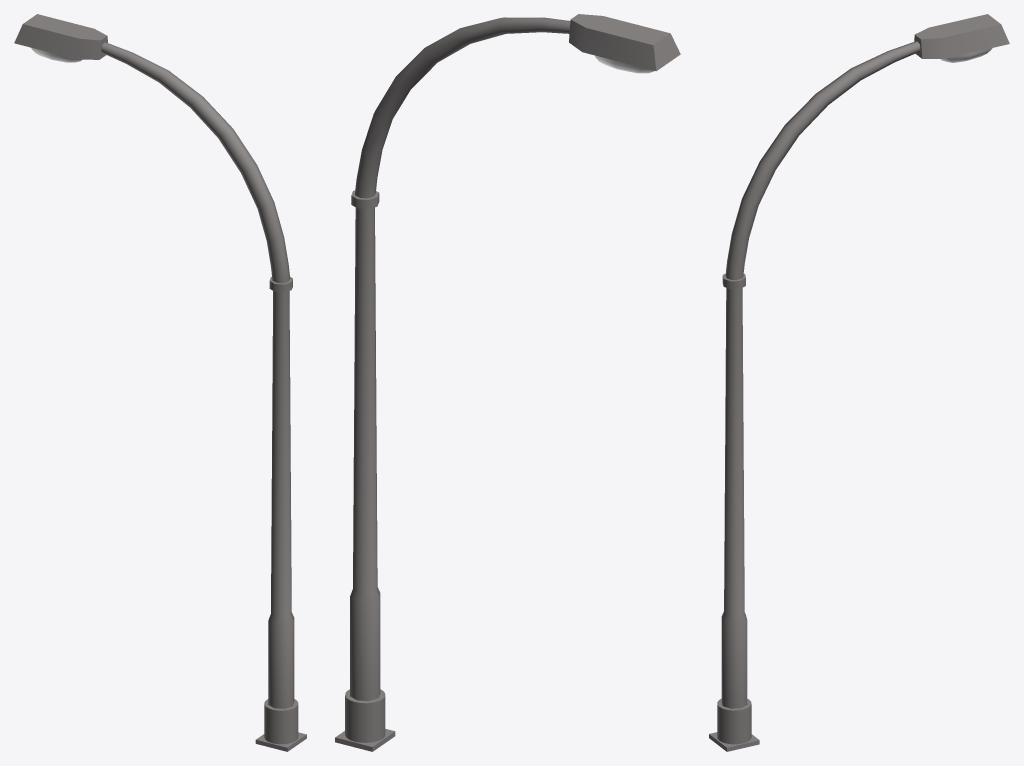
File: streetlights.001_lev1.glb
3 renders of one model, left to right at view 1: azimuth 30°, elevation 25°; view 2: azimuth 210°, elevation 25°; view 3: azimuth 270°, elevation 25°, orthographic. The views are drawn at different scales.
Parts seen in each view (by area): view 1: streetlights.001_lev1; view 2: streetlights.001_lev1; view 3: streetlights.001_lev1.
Part boxes in pixels (<box>): streetlights.001_lev1: <box>14,14,306,751</box>; streetlights.001_lev1: <box>335,14,680,751</box>; streetlights.001_lev1: <box>709,14,1009,751</box>.
Size of the model in its own units: 1.3 by 5.04 by 2.08.
Materials: 2 (1 with a texture image).
